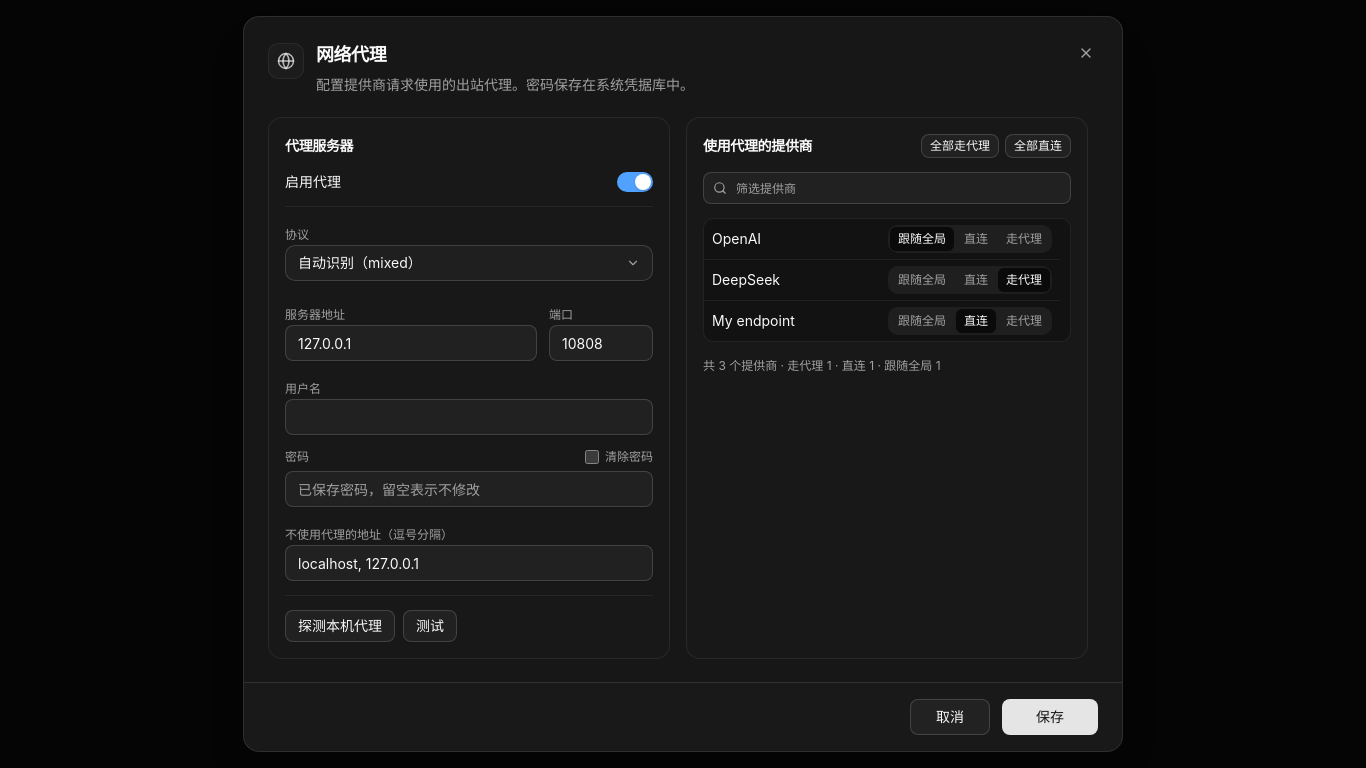
it: ProxySettingsDialog › filters the provider list by name
Expected: the field labelled "服务器地址" is shown, [285, 325, 537, 361]
Type "deep" into the search field labelled "筛选提供商" at (887, 188), box [703, 172, 1071, 204]
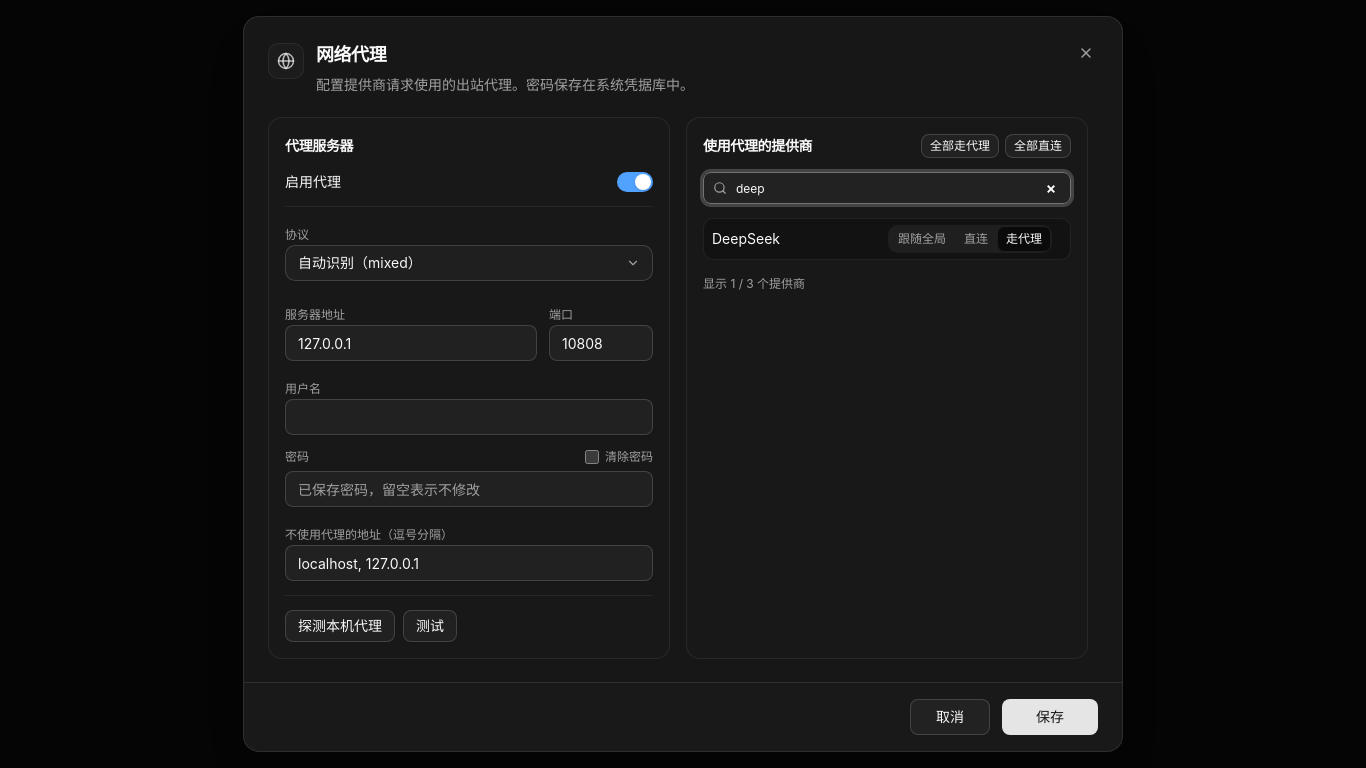
Expected: the element named "DeepSeek的出站方式" is shown, [888, 225, 1052, 253]
Expected: the text "显示 1 / 3 个提供商" is shown, [703, 276, 805, 291]
Expected: the element "OpenAI的出站方式" is gone
Replace the text in the search field named "筛选提供商" with "zzz" at (887, 188), box [703, 172, 1071, 204]
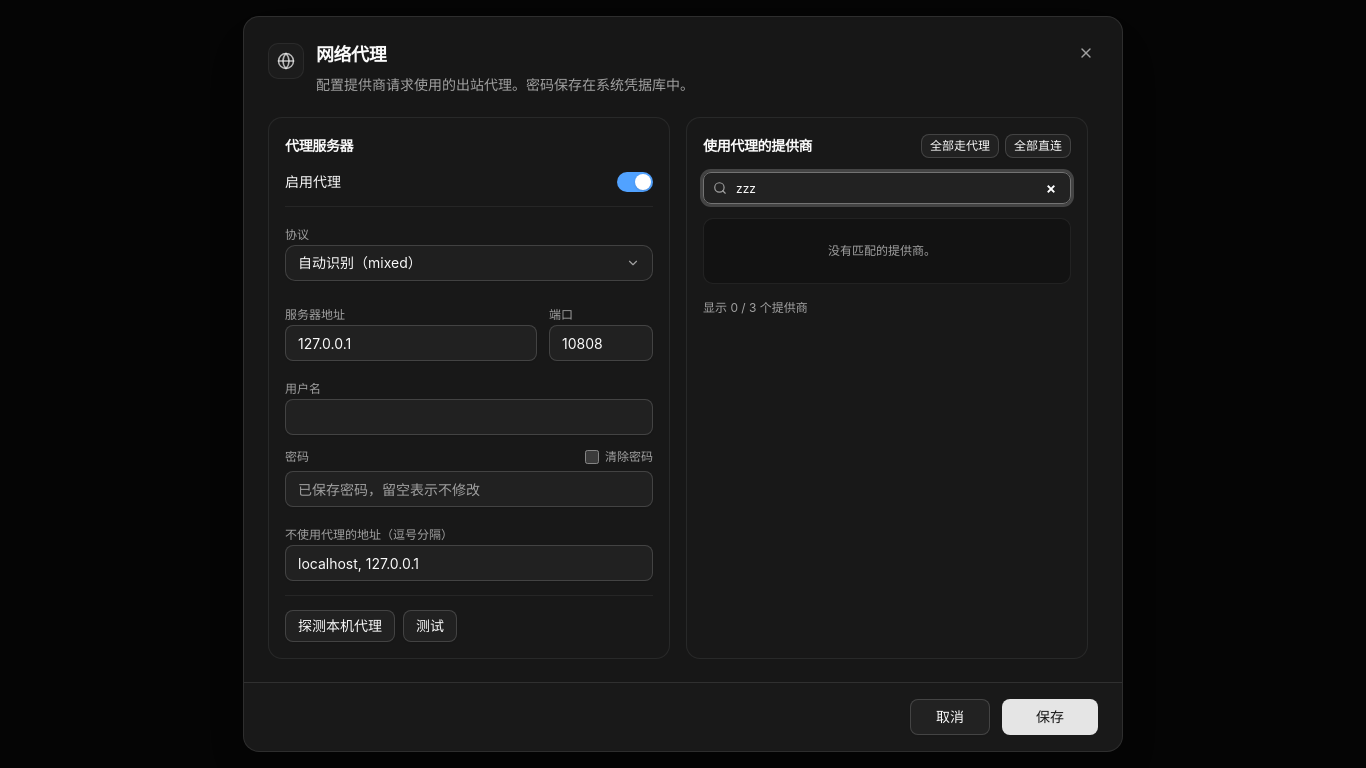
Expected: the list item "没有匹配的提供商。" is shown, [828, 243, 936, 258]
